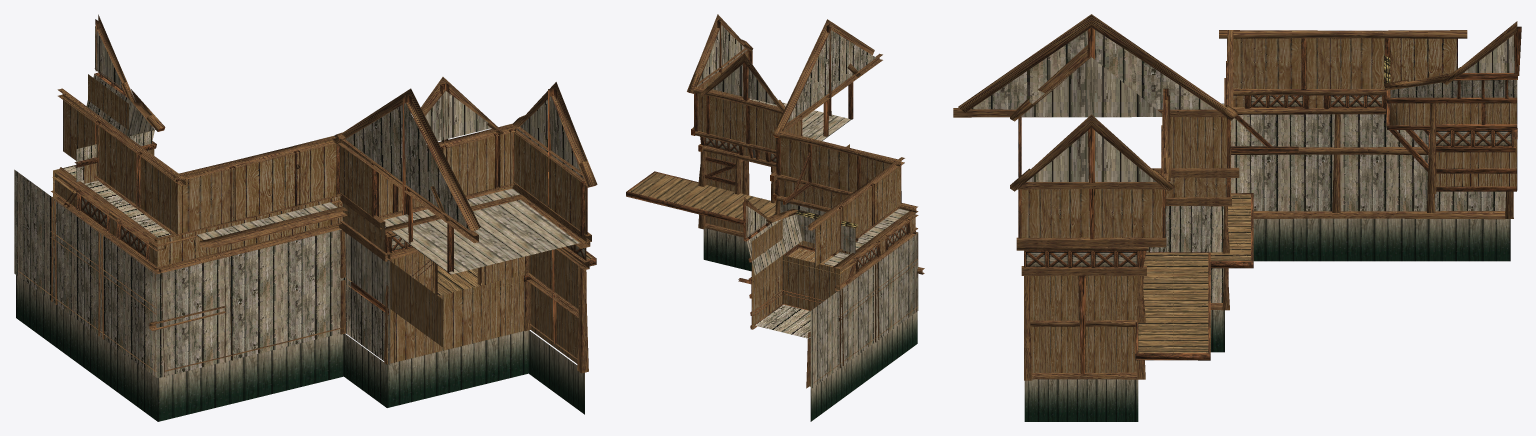
File: LAKETOWN_EXTERIOR_PS_LT_WAREHOUSE1__GX.fbx
3 renders of one model, left to right at view 1: azimuth 30°, elevation 25°; view 2: azimuth 150°, elevation 25°; view 3: azimuth 270°, elevation 25°, orthographic. The views are drawn at different scales.
Parts seen in each view (by area): view 1: LAKETOWN_EXTERIOR_PS_LT_WAREHOUSE1__GX; view 2: LAKETOWN_EXTERIOR_PS_LT_WAREHOUSE1__GX; view 3: LAKETOWN_EXTERIOR_PS_LT_WAREHOUSE1__GX.
Boxes of the visible parts, <box> form: LAKETOWN_EXTERIOR_PS_LT_WAREHOUSE1__GX: <box>14,14,597,421</box>; LAKETOWN_EXTERIOR_PS_LT_WAREHOUSE1__GX: <box>626,14,924,421</box>; LAKETOWN_EXTERIOR_PS_LT_WAREHOUSE1__GX: <box>953,14,1521,421</box>.
Size of the model in its own units: 233314 by 186747 by 284038.
13 materials, 13 textured.
